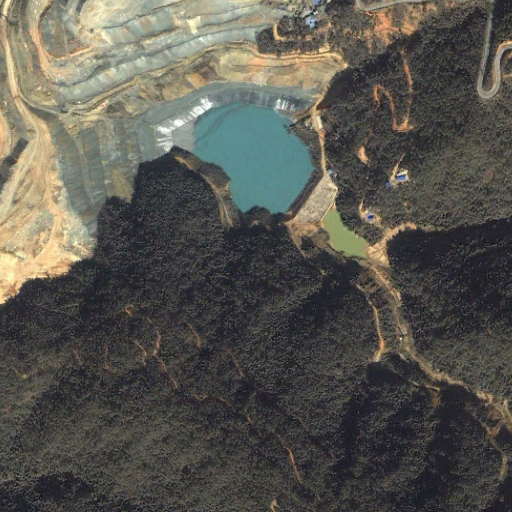tp: (138, 89, 374, 264)
